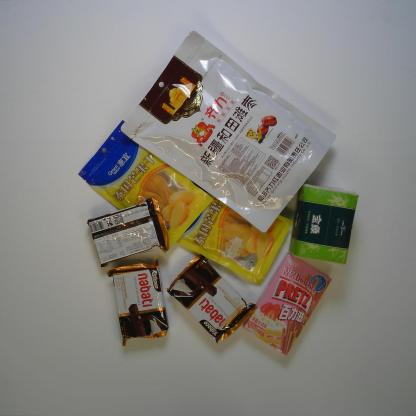Dessert: (242, 250, 334, 360), (166, 250, 258, 345), (106, 256, 170, 350), (85, 197, 169, 267)
Dried Food: (118, 26, 336, 234)
Dried Fruit: (77, 118, 214, 254), (178, 195, 296, 284)
Tissue: (288, 179, 360, 267)
